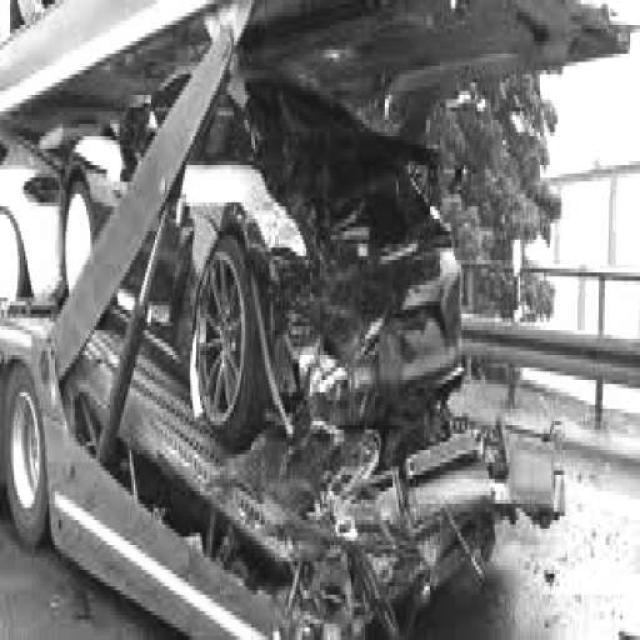car damage: (237, 162, 515, 640)
